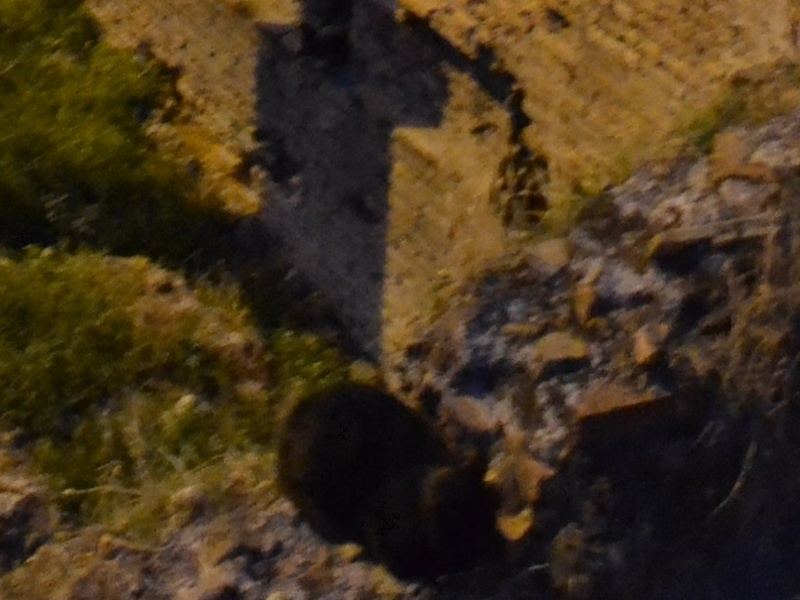cat: (276, 381, 506, 578)
